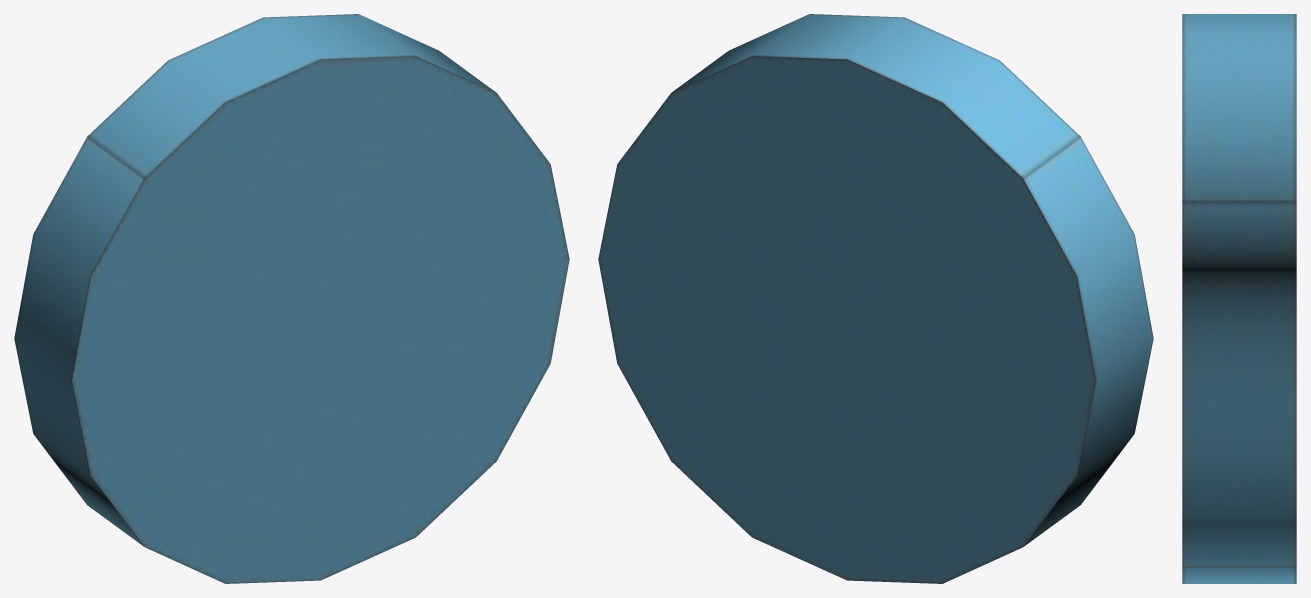
The model's file is menuItemBullet.obj.
3 views of the same model, side by side, from view 1: azimuth 30°, elevation 25°; view 2: azimuth 150°, elevation 25°; view 3: azimuth 270°, elevation 25° (orthographic).
Visible parts, largest first — view 1: Cylinder001; view 2: Cylinder001; view 3: Cylinder001.
Part boxes in pixels (left/top/right/bottom): Cylinder001: left=14, top=14, right=569, bottom=583; Cylinder001: left=598, top=14, right=1153, bottom=583; Cylinder001: left=1182, top=14, right=1296, bottom=583.
Size of the model in its own units: 10 by 10 by 2.
1 material, 1 textured.
